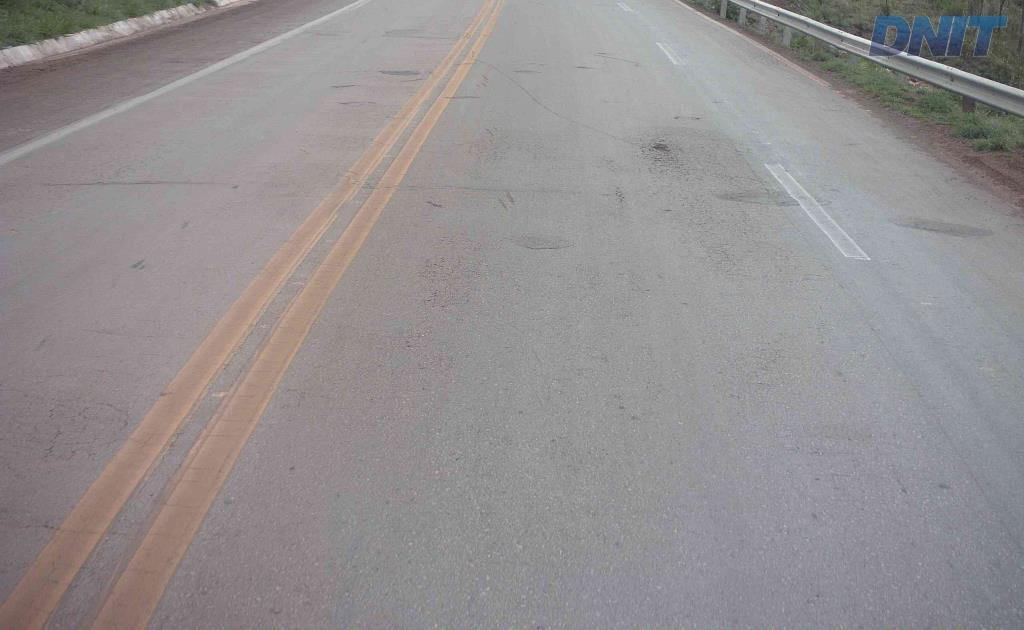pothole: (649, 142, 673, 155)
